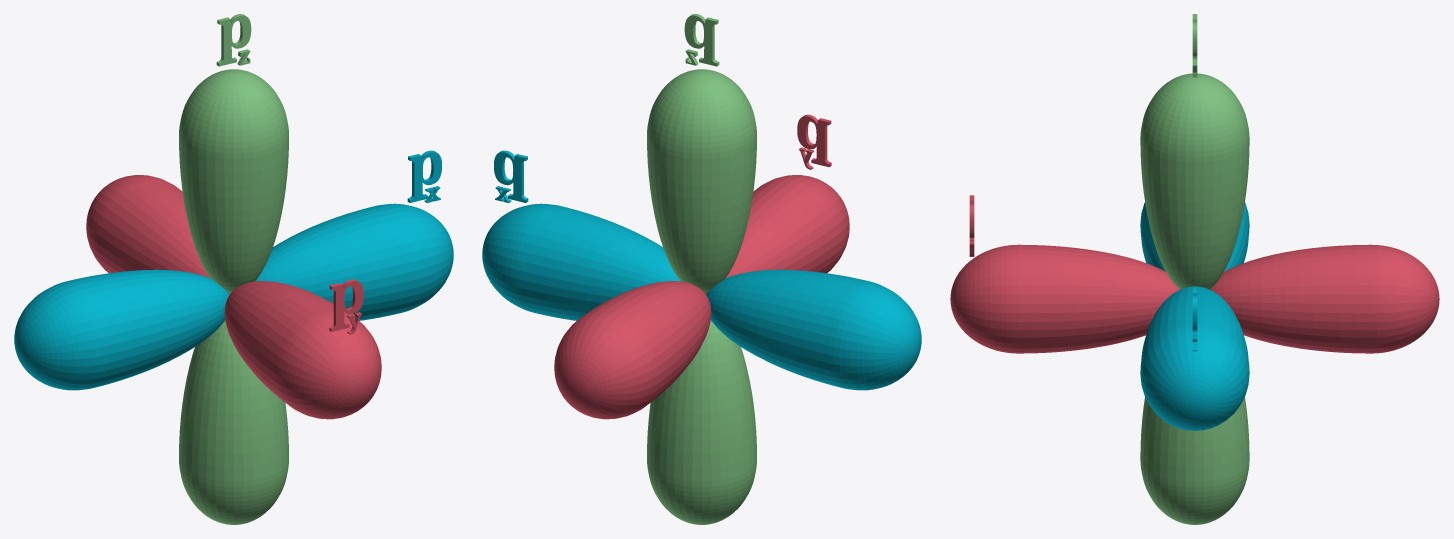
The model's file is p orbitals updated.glb.
3 renders of one model, left to right at view 1: azimuth 30°, elevation 25°; view 2: azimuth 150°, elevation 25°; view 3: azimuth 270°, elevation 25°, orthographic.
Parts seen in each view (by area): view 1: Mesh_Mesh_head_geo.001_lambert2SG.001; view 2: Mesh_Mesh_head_geo.001_lambert2SG.001; view 3: Mesh_Mesh_head_geo.001_lambert2SG.001.
Part boxes in pixels (x1,y1,x2,y2): Mesh_Mesh_head_geo.001_lambert2SG.001: (14, 14, 453, 524); Mesh_Mesh_head_geo.001_lambert2SG.001: (482, 14, 921, 524); Mesh_Mesh_head_geo.001_lambert2SG.001: (950, 14, 1439, 524).
Size of the model in its own units: 108 by 121 by 108.
